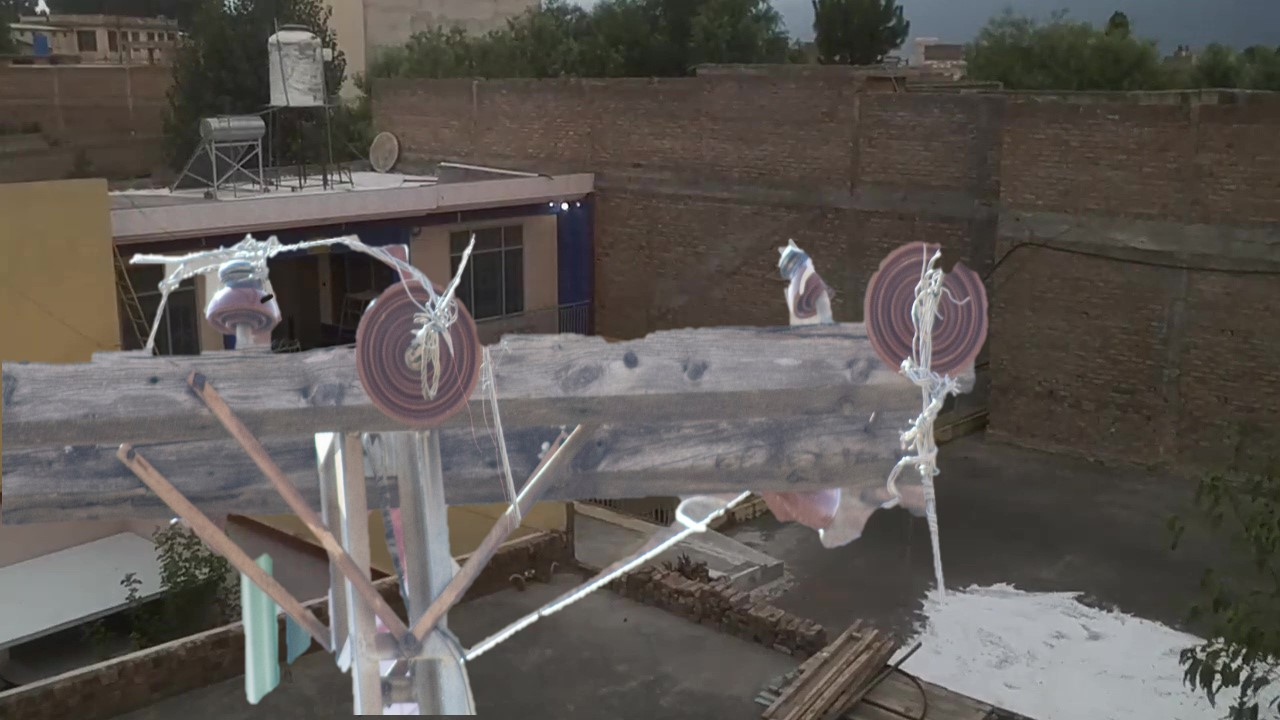defect_pin: (772, 234, 840, 333)
insulator_disc: (351, 274, 489, 428), (860, 230, 994, 383)
insulator_pin: (198, 251, 286, 342)
